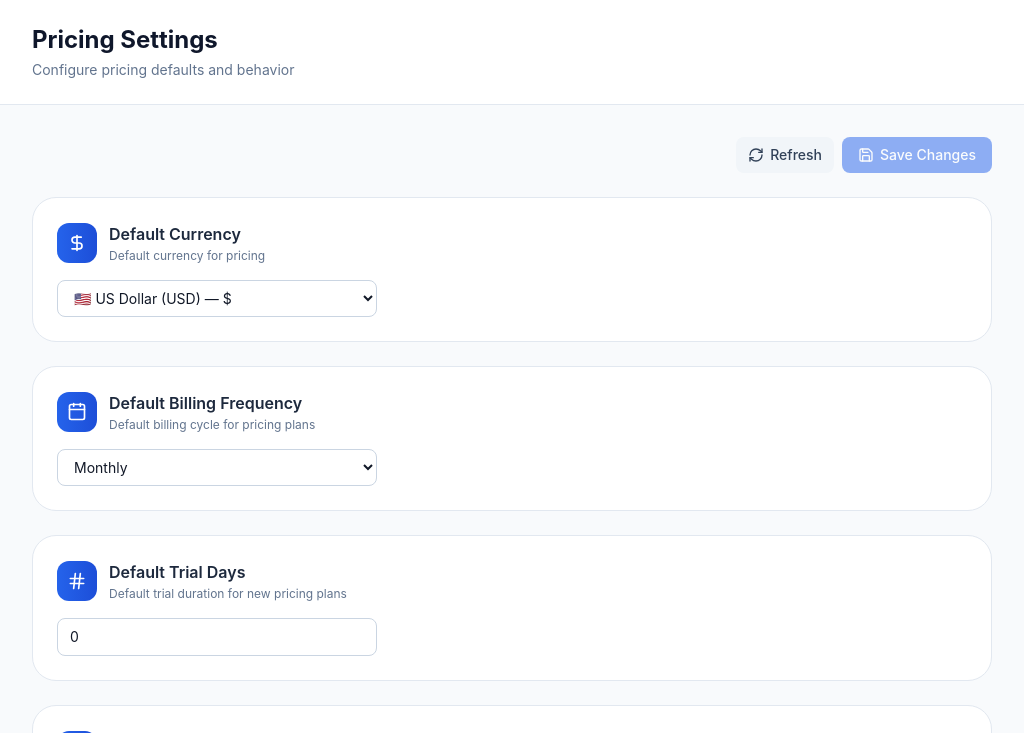
Test: BUG-11.2 Pricing Settings › Refresh with edits asks first; Cancel keeps the edit and does not refetch
This screenshot has width=1024, height=733.
Step 1. Replace the text in the number field labelled "Default Trial Days" with "14" → coordinates (217, 637), box [57,618,377,656]
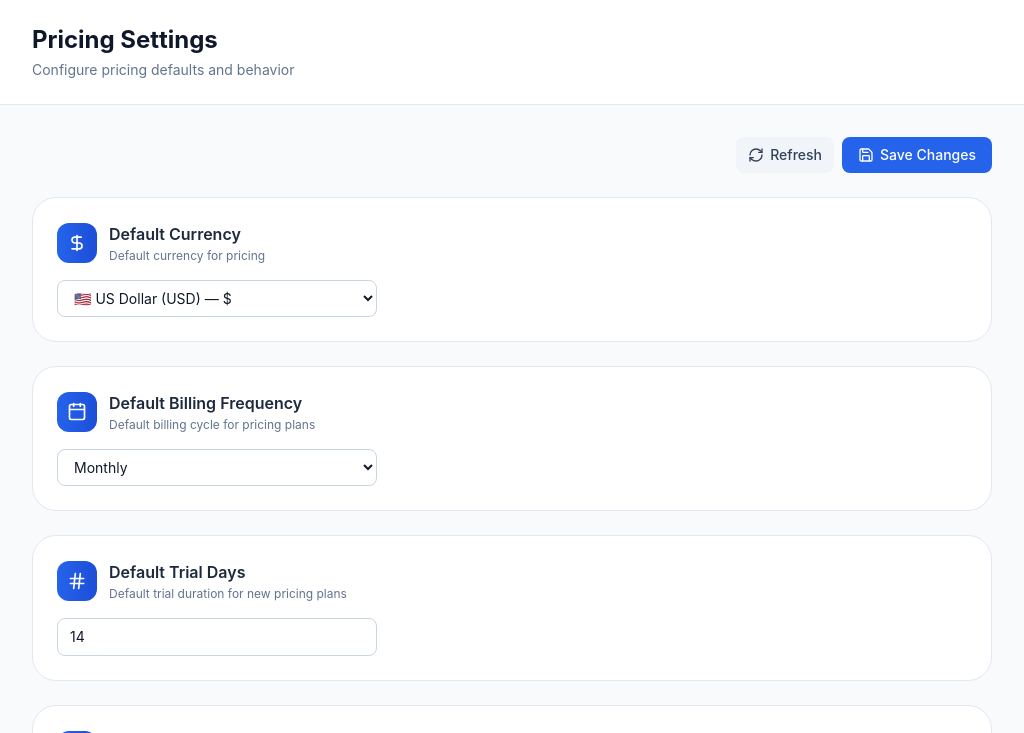
Step 2. Click the button "Refresh" → coordinates (785, 155), box [736,137,834,173]
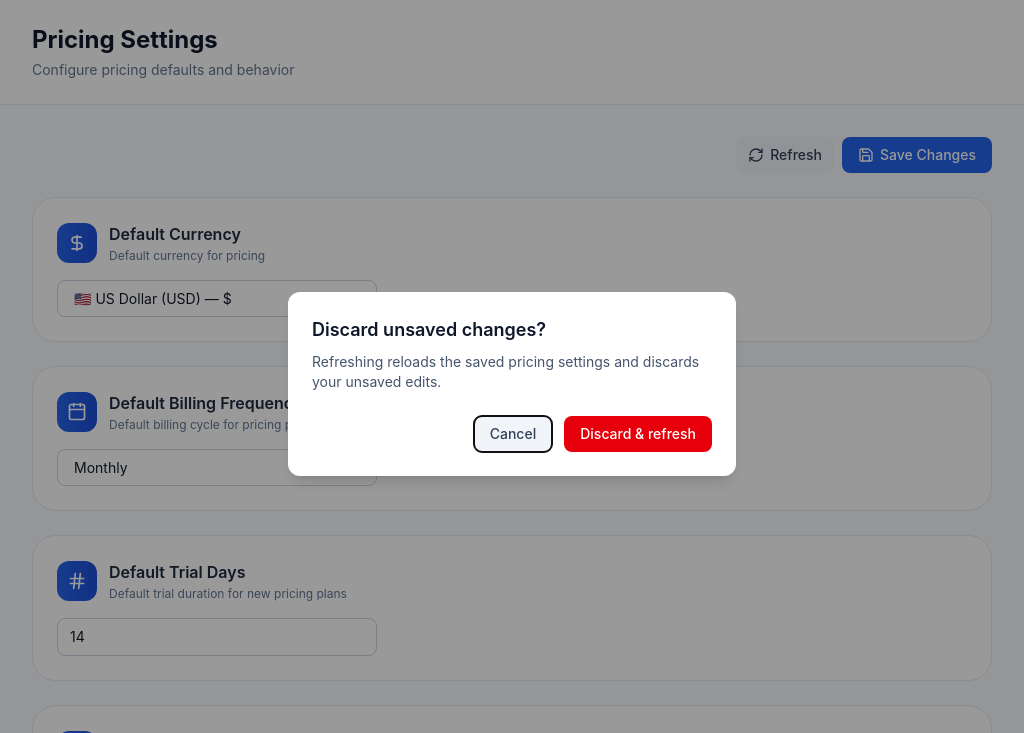
Step 3. Click the button "Cancel" → coordinates (513, 434), box [474,416,552,452]
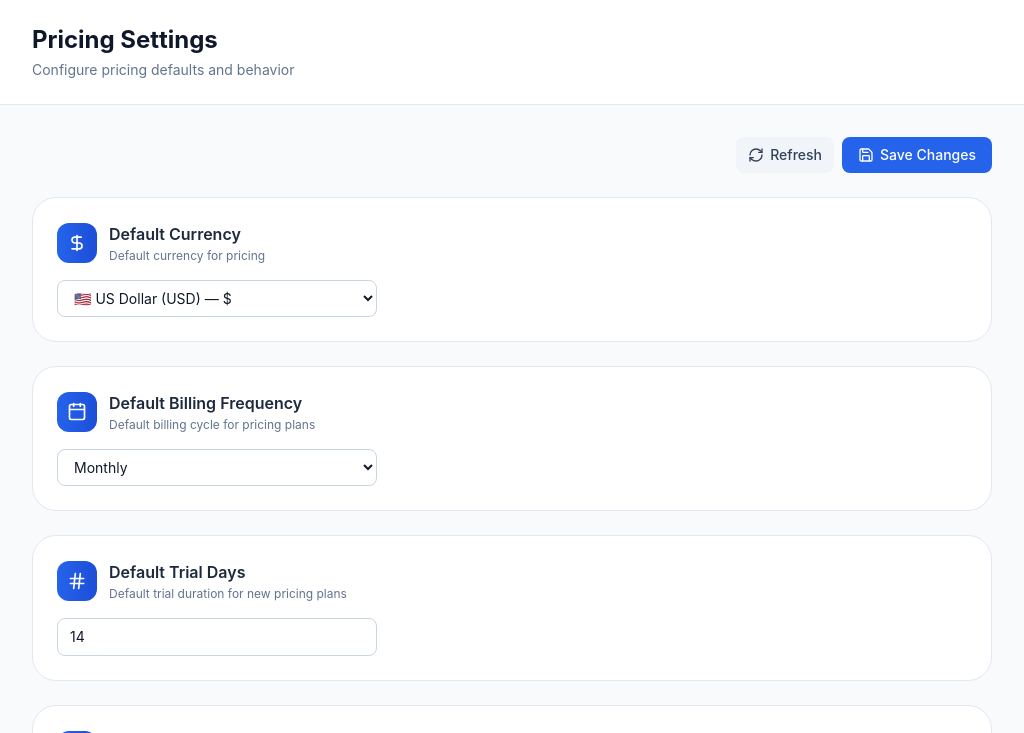
Expected: the button "Save Changes" is enabled, [842,137,992,173]
Expected: the dialog is gone
